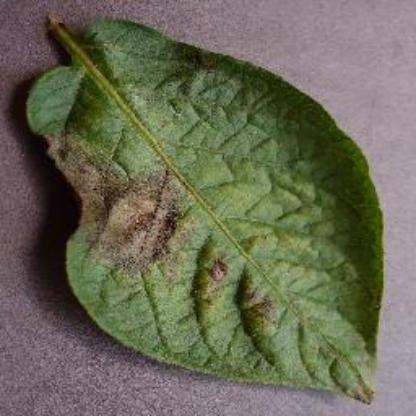Late-Blight: (17, 7, 403, 409)
